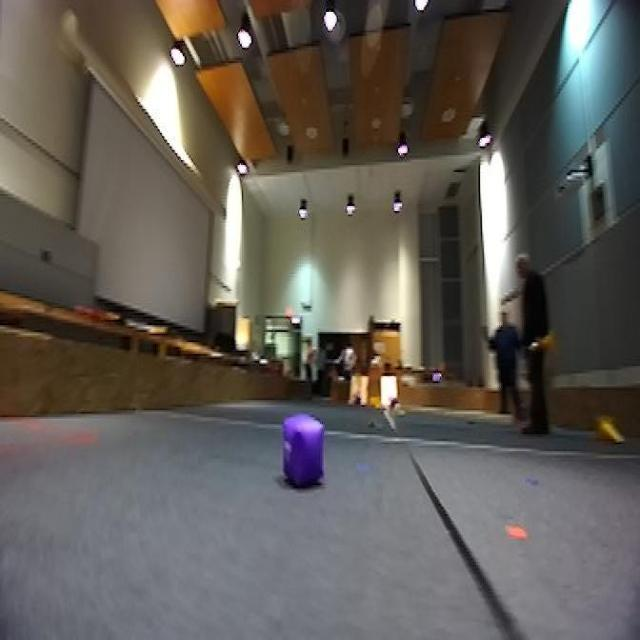frc_cone: (590, 410, 625, 446), (529, 330, 556, 358), (370, 393, 386, 410)
frc_cube: (281, 414, 328, 492), (389, 395, 402, 415), (352, 395, 364, 412)
